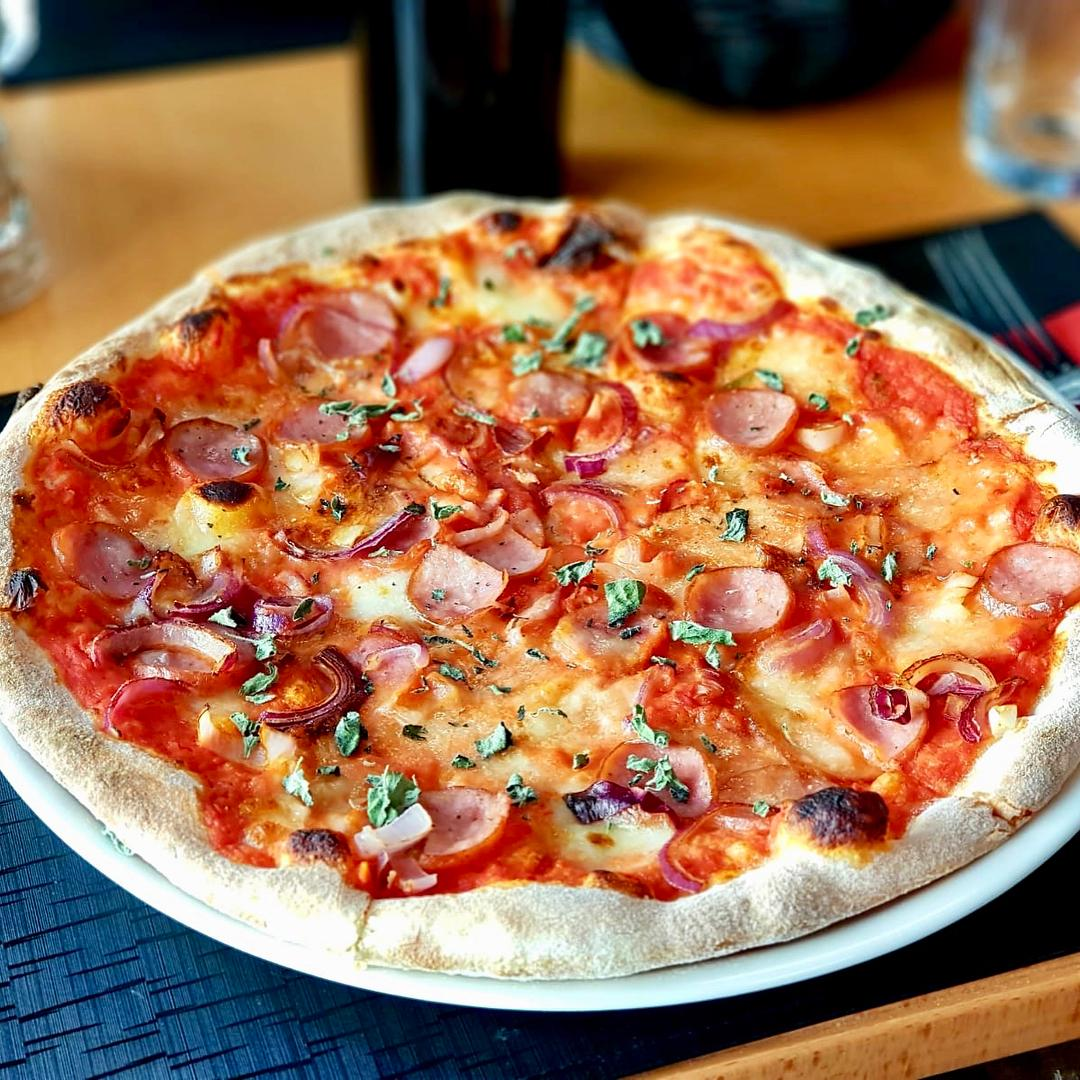Onion: (811, 651, 1009, 744), (501, 373, 633, 484), (275, 633, 364, 744), (281, 523, 410, 592), (816, 525, 890, 631), (117, 631, 236, 693), (651, 812, 726, 903), (694, 319, 753, 341)
Pepperoni: (48, 517, 157, 609), (975, 539, 1080, 634), (413, 780, 513, 877), (695, 553, 796, 646), (603, 737, 723, 810), (163, 410, 270, 485), (403, 541, 502, 620), (709, 383, 798, 452), (295, 301, 389, 366)
Pizza: (0, 193, 1080, 981)
